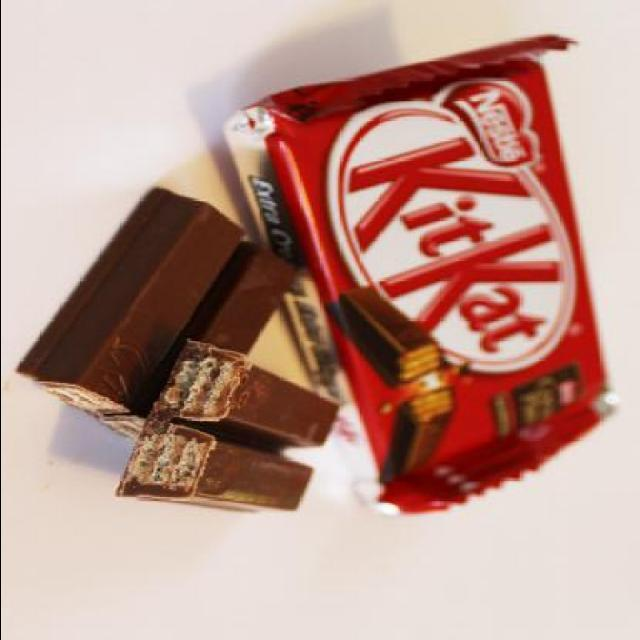Chocolate bar: (236, 32, 624, 523)
Chocolate bar packaged: (15, 192, 299, 464), (110, 346, 346, 514)
